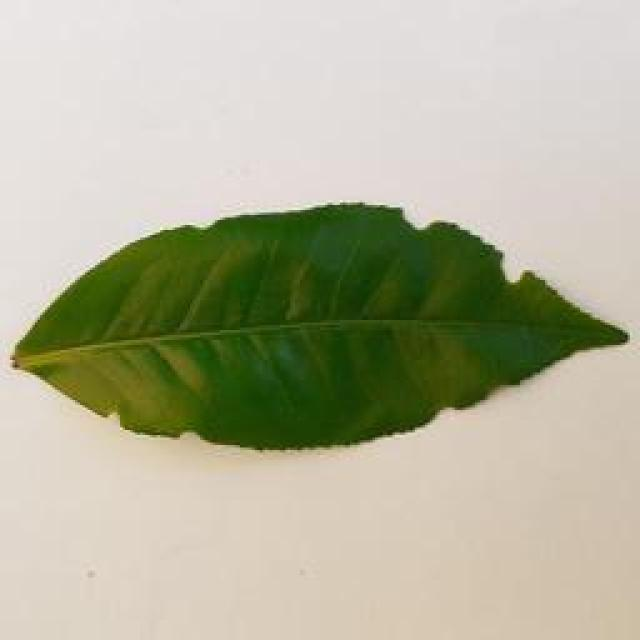Healthy: (2, 193, 640, 477)
